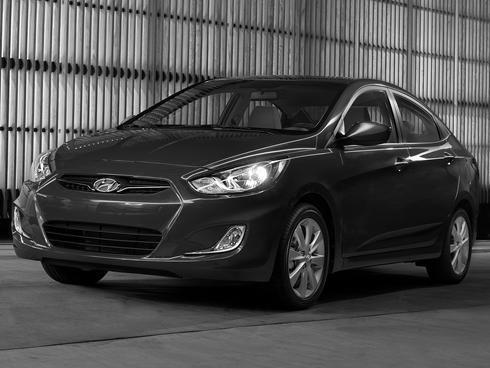car: (13, 74, 483, 314)
